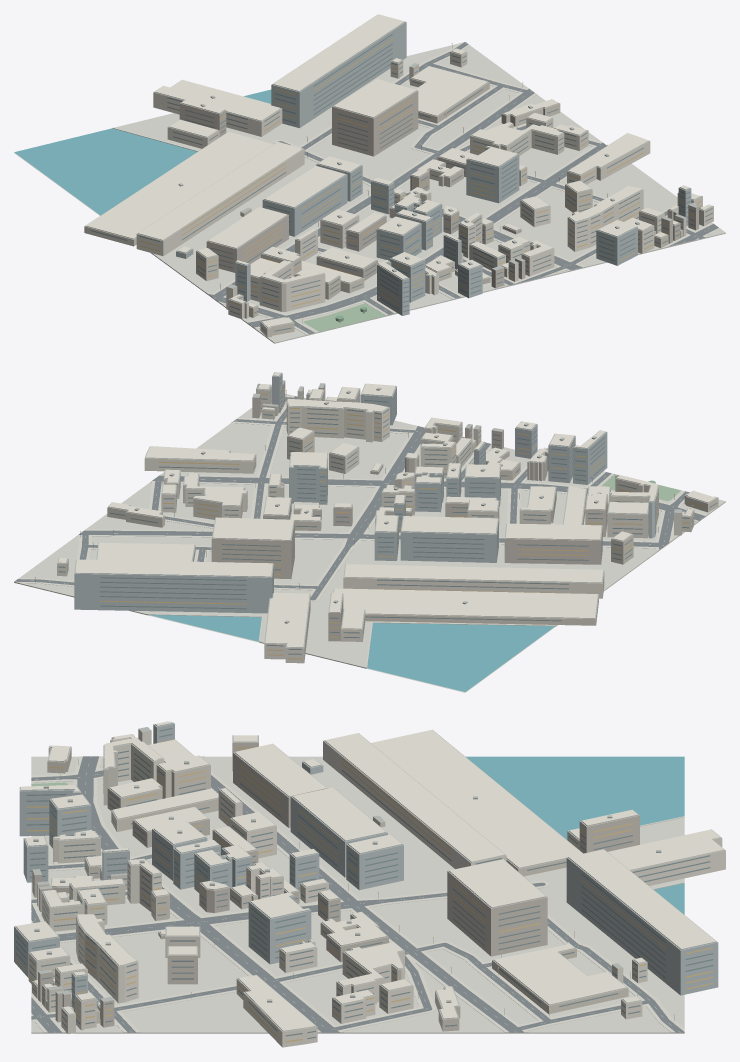
3 renders of one model, top to bottom at view 1: azimuth 30°, elevation 25°; view 2: azimuth 150°, elevation 25°; view 3: azimuth 270°, elevation 25°, orthographic. The views are drawn at different scales.
Parts seen in each view (by area): view 1: city; view 2: city; view 3: city.
Boxes of the visible parts, box(x1,y1,x2,y2) form: city: box(14, 14, 725, 343); city: box(14, 372, 725, 692); city: box(14, 721, 725, 1047).
Bounding box in the file's own units: 561 × 41.95 × 545.
